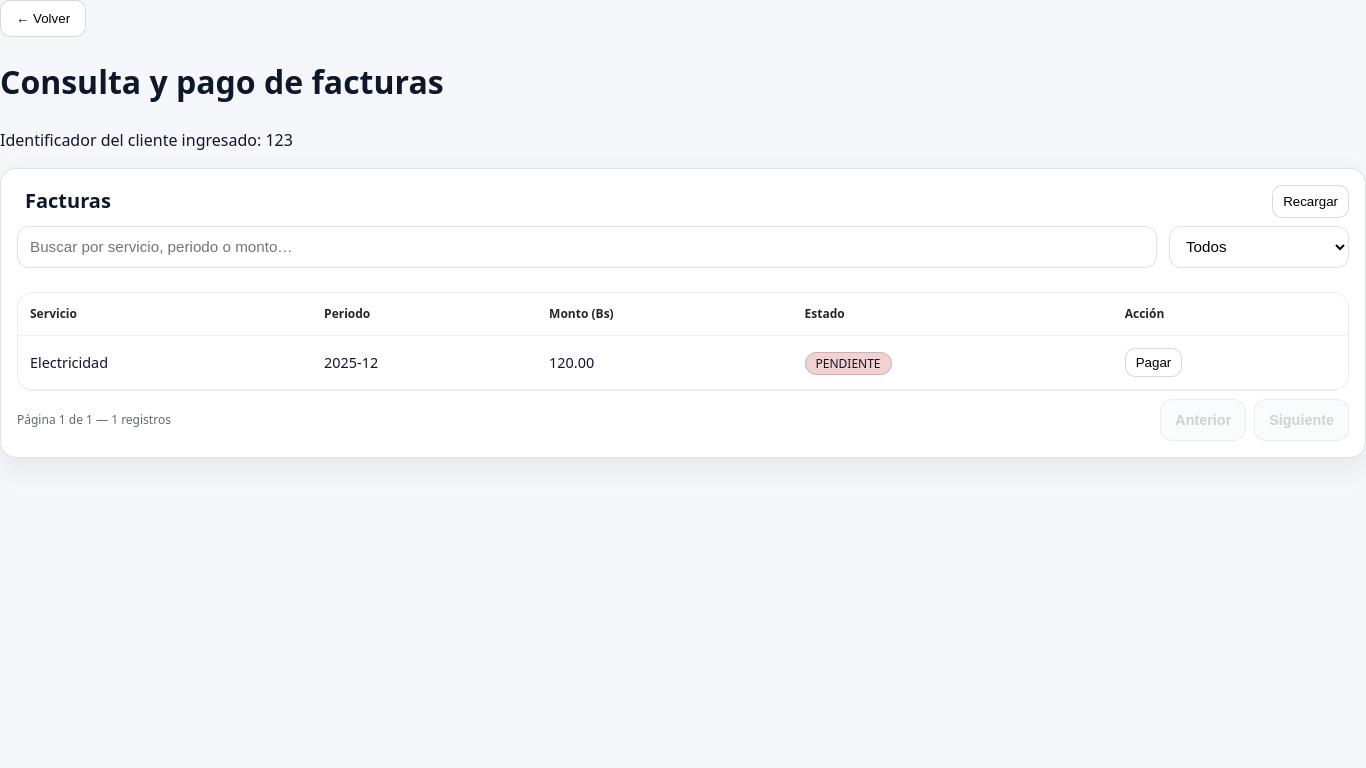
it: Facturas - flujo de pago › pago fallido: mantiene modal abierto y muestra error en el modal
The width and height of the screenshot is (1366, 768).
Expected: the text "Electricidad" is shown, x1=30 y1=353 x2=108 y2=372
Click the button "Pagar". click: [1154, 362]
box: x1=1125 y1=348 x2=1182 y2=377
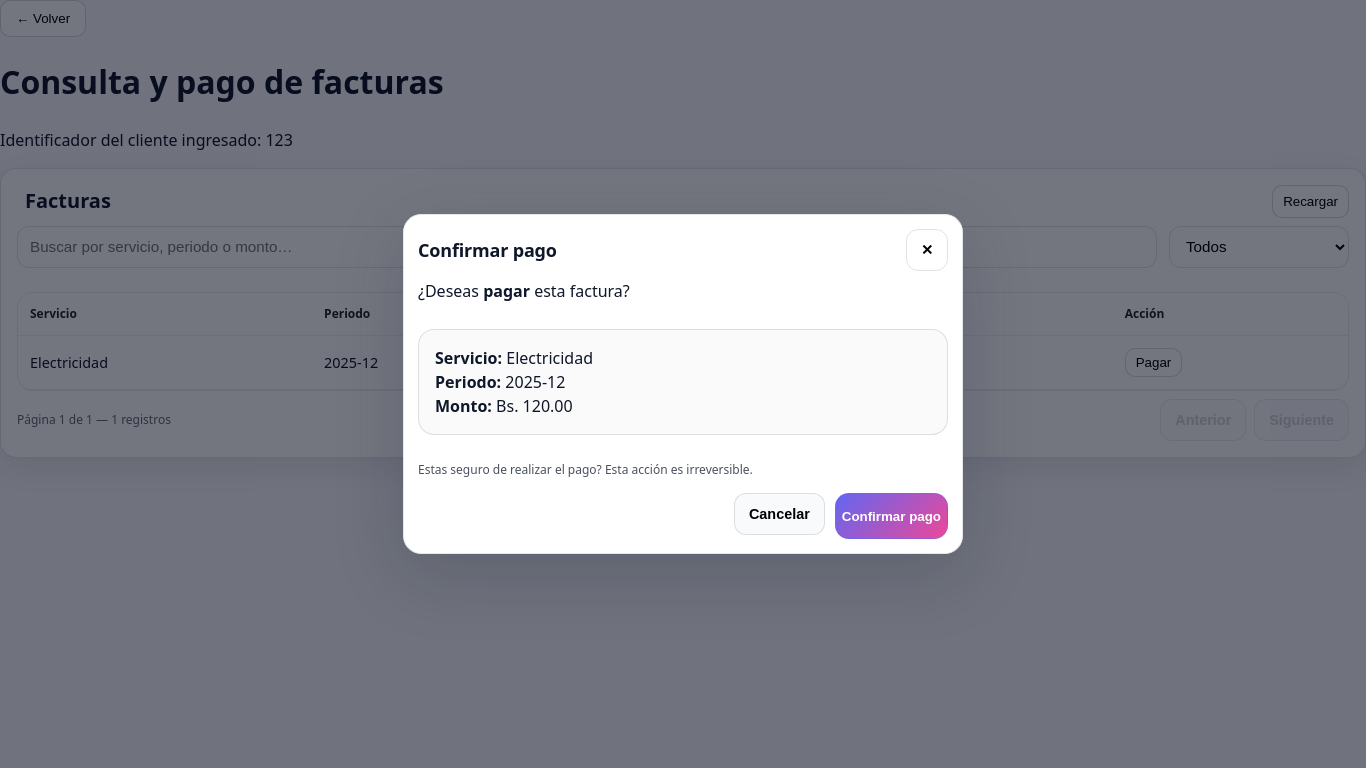
Expected: the dialog is shown
Click the button "Confirmar pago". click: [891, 516]
box: x1=835 y1=493 x2=948 y2=539
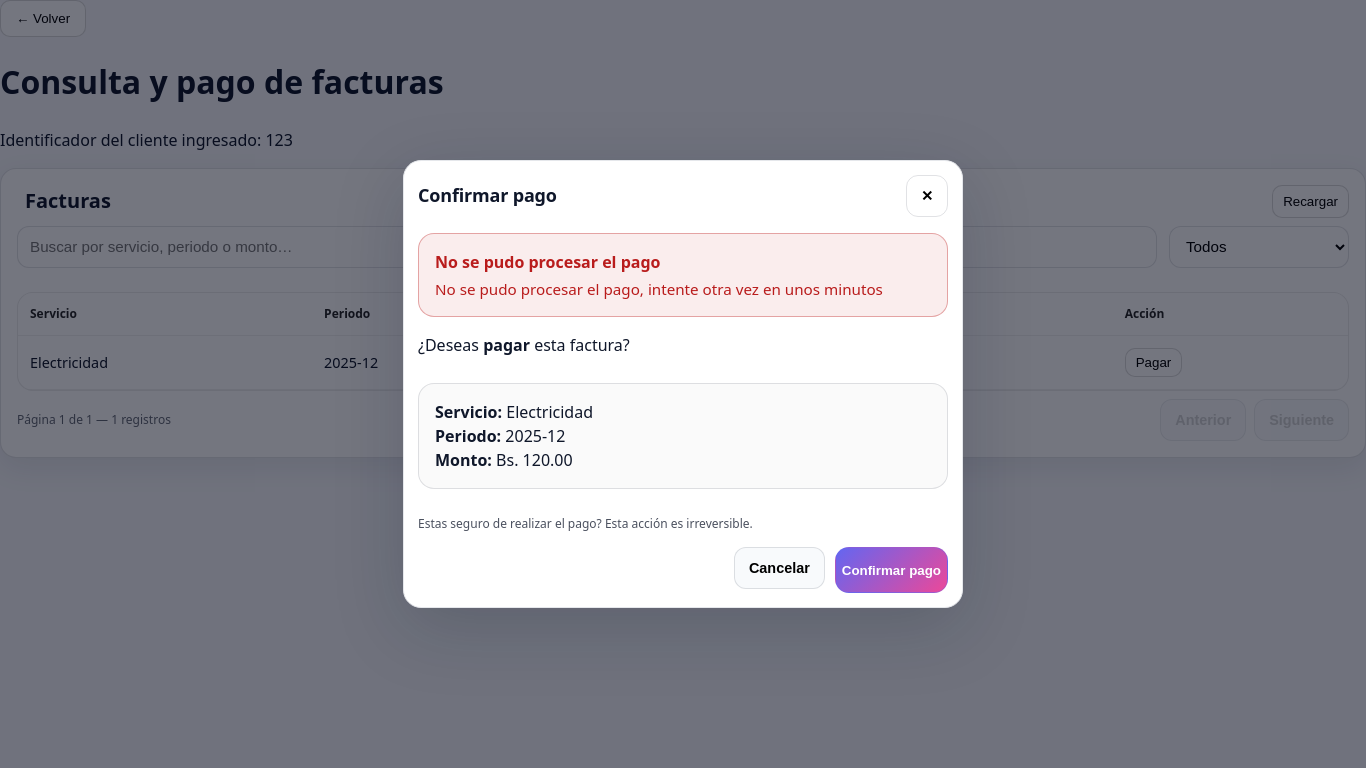
Expected: the button "Pagar" is shown, x1=1125 y1=348 x2=1182 y2=377
Expected: the message shows "intente otra vez en unos minutos", x1=435 y1=279 x2=883 y2=299
